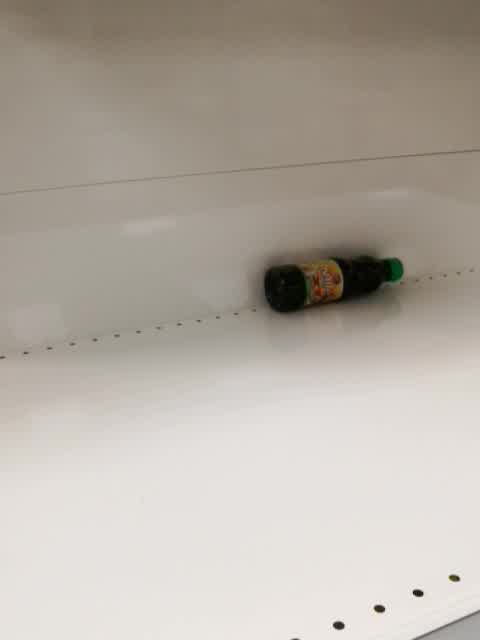cookingoil: (261, 253, 404, 315)
